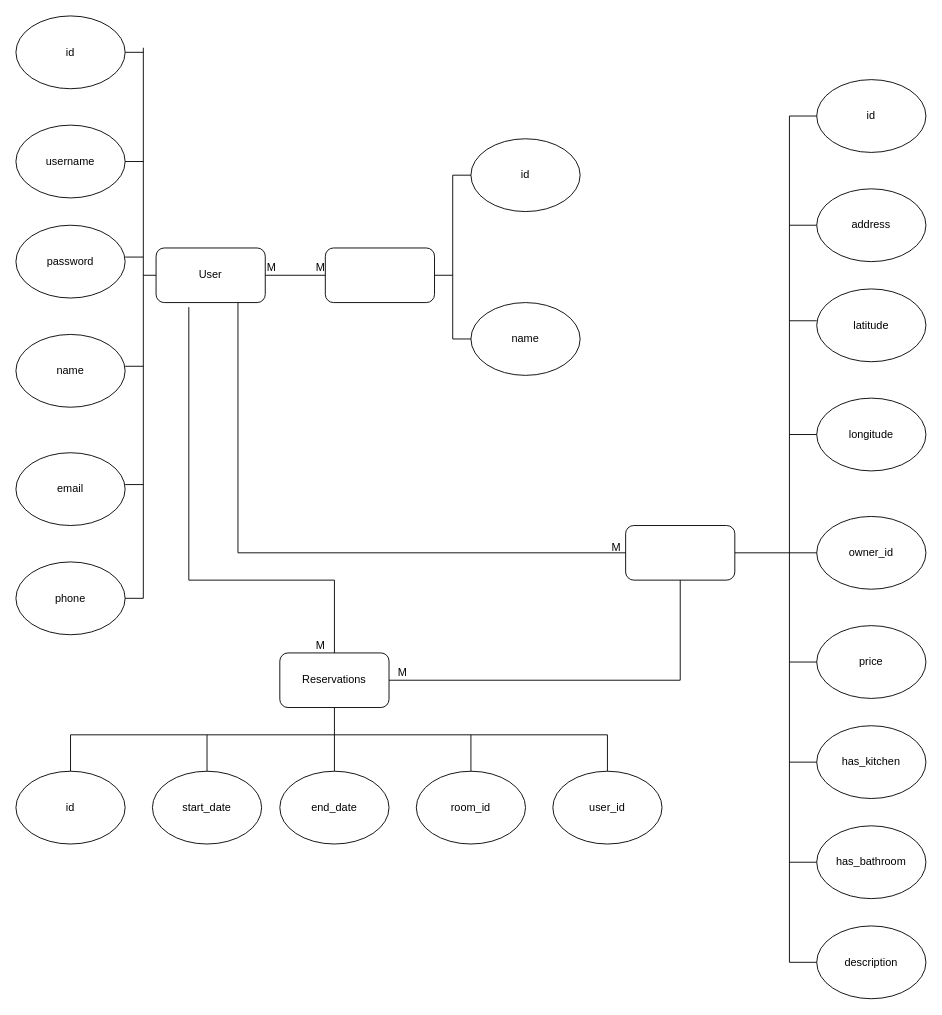
Some shapes in this 942 by 1015 pixel diagram are drawn without their labels. Here are the shapes that lost their labels. From the top down, the centre of each, then its label:
At pixel 379 275: "Role".
At pixel 680 552: "Rooms".
